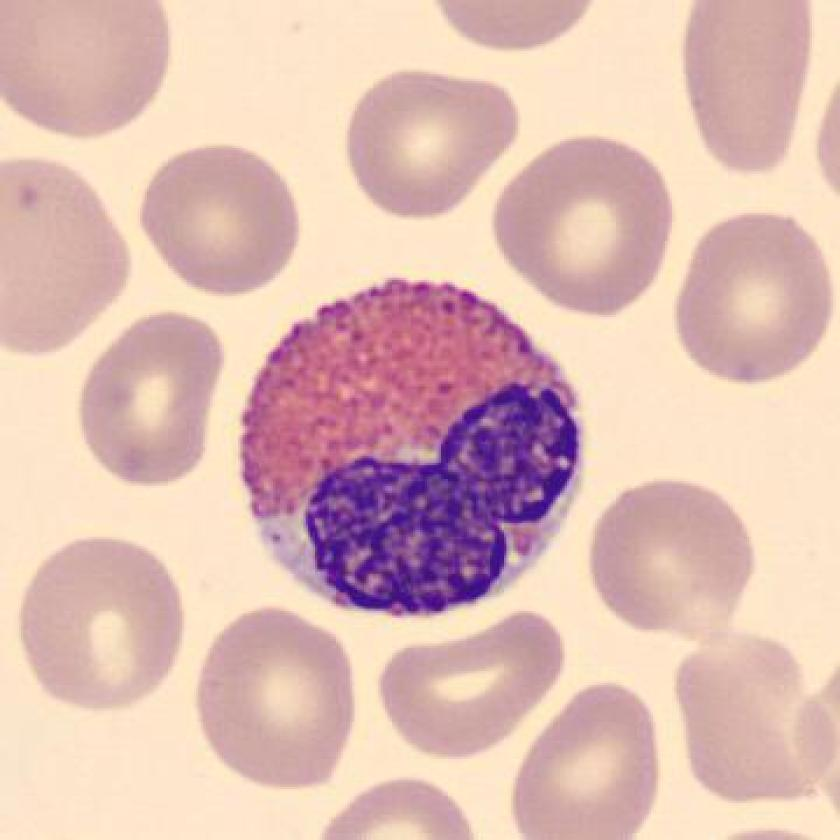eosinophil: (230, 270, 601, 640)
